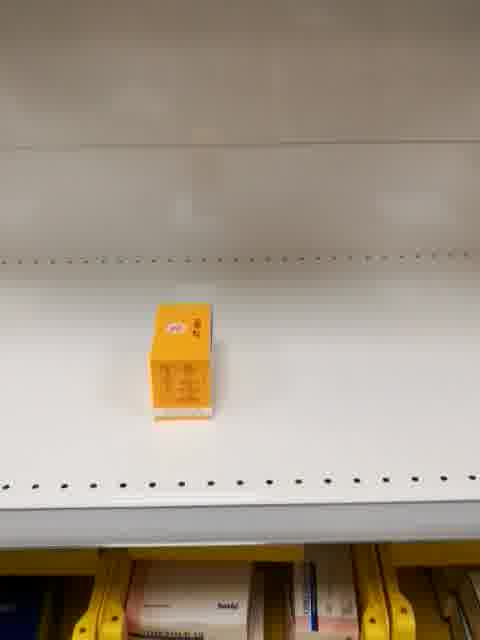jasminetea: (148, 302, 215, 420)
